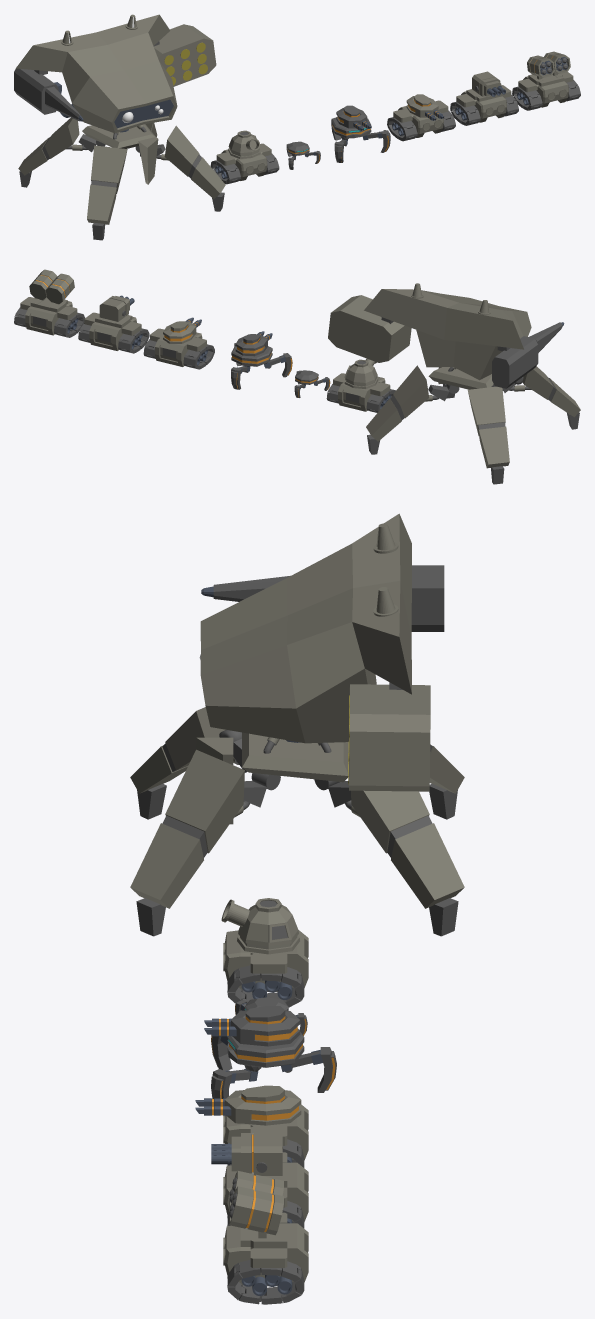
File: mobsCollection.fbx
The picture shows the model from 3 angles, top to bottom: view 1: azimuth 30°, elevation 25°; view 2: azimuth 150°, elevation 25°; view 3: azimuth 270°, elevation 25°; orthographic projection. The views are drawn at different scales.
Parts seen in each view (by area): view 1: Cockpit, tankBody.003, thingamajig.001, tankBody.001, tankBody, Cube.003, triTop; view 2: Cockpit, tankBody.003, thingamajig.001, tankBody, tankBody.001, Cube.003, triTop; view 3: Cockpit, tankBody.003, tankBody.001, Cube.003, tankBody, thingamajig.001.
Part boxes in pixels (x1,y1,x2,y2): Cockpit: (14, 14, 225, 240); tankBody.003: (512, 51, 580, 110); thingamajig.001: (450, 71, 518, 125); tankBody.001: (210, 130, 279, 184); tankBody: (387, 94, 455, 141); Cube.003: (331, 105, 390, 162); triTop: (286, 141, 320, 169); Cockpit: (328, 283, 580, 484); tankBody.003: (14, 269, 84, 337); thingamajig.001: (78, 295, 149, 353); tankBody: (143, 317, 214, 369); tankBody.001: (326, 358, 395, 412); Cube.003: (231, 331, 292, 389); triTop: (294, 370, 330, 397); Cockpit: (130, 513, 464, 936); tankBody.003: (223, 1171, 308, 1304); tankBody.001: (221, 898, 308, 1007); Cube.003: (204, 1005, 336, 1098); tankBody: (195, 1085, 308, 1167); thingamajig.001: (211, 1133, 308, 1228).
Bounding box in the file's own units: 2971 × 867 × 829.
8 materials, 3 textured.
